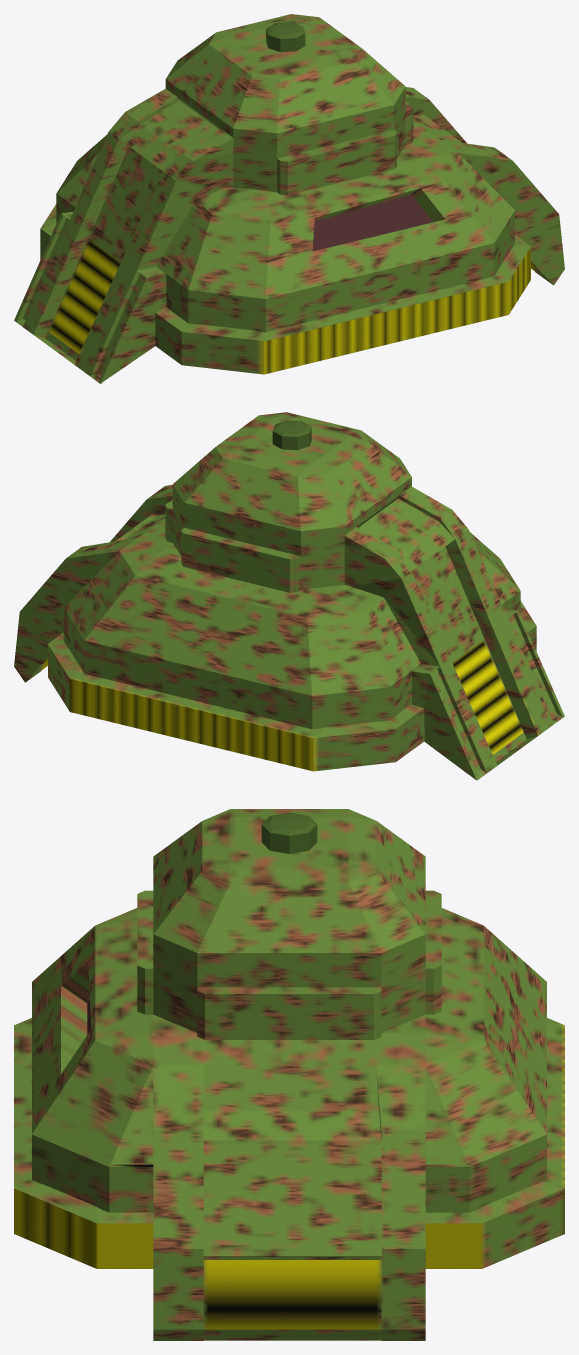
File: bunker_home_copy.glb
The picture shows the model from 3 angles, top to bottom: view 1: azimuth 30°, elevation 25°; view 2: azimuth 150°, elevation 25°; view 3: azimuth 270°, elevation 25°; orthographic projection. The views are drawn at different scales.
Visible parts, largest first — view 1: Cube, top; view 2: Cube, top; view 3: Cube, top.
Boxes of the visible parts, left/top/right/bottom form: Cube: left=14, top=14, right=564, bottom=383; top: left=266, top=22, right=305, bottom=52; Cube: left=14, top=412, right=564, bottom=780; top: left=272, top=420, right=311, bottom=450; Cube: left=14, top=809, right=564, bottom=1340; top: left=261, top=812, right=317, bottom=853.
Size of the model in its own units: 20.15 by 11.49 by 15.33.
3 materials, 1 textured.
